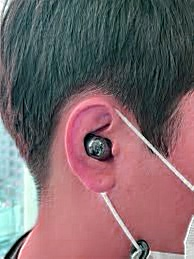earphone: (65, 99, 124, 194)
